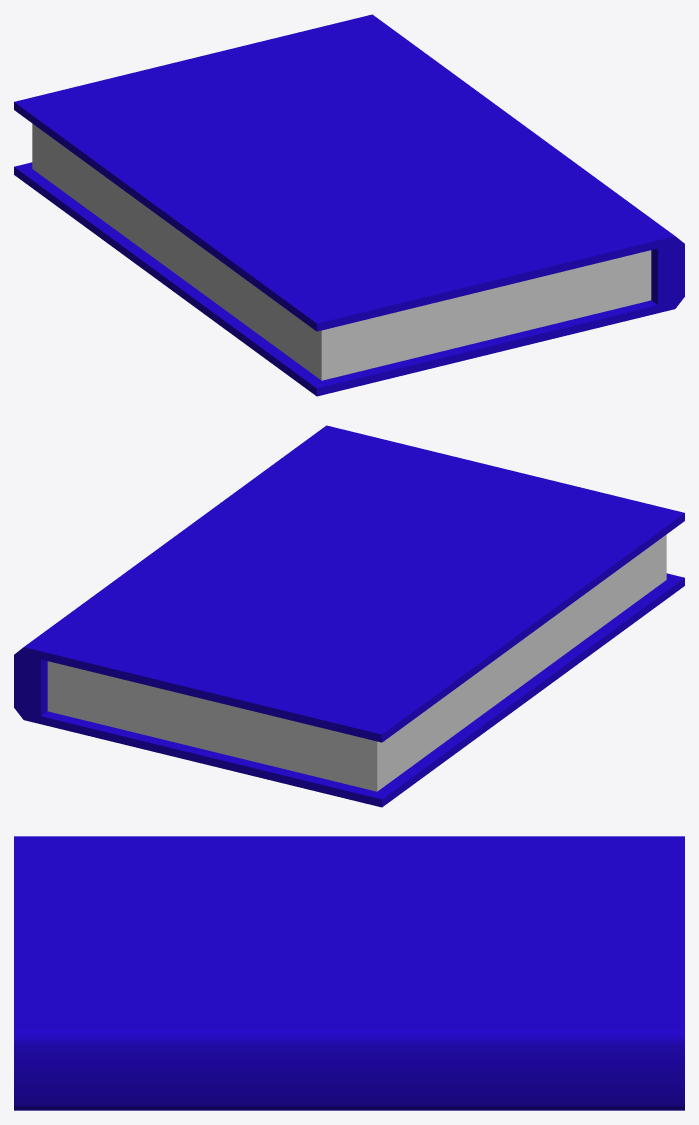
File: Book_Bashe.fbx
3 renders of one model, top to bottom at view 1: azimuth 30°, elevation 25°; view 2: azimuth 150°, elevation 25°; view 3: azimuth 270°, elevation 25°, orthographic. The views are drawn at different scales.
Visible parts, largest first — view 1: Book_Bashe; view 2: Book_Bashe; view 3: Book_Bashe.
Part boxes in pixels (box(x1,y1,x2,y2)): Book_Bashe: box(14, 14, 684, 396); Book_Bashe: box(14, 425, 684, 807); Book_Bashe: box(14, 836, 684, 1110).
Size of the model in its own units: 19.09 by 3.61 by 27.21.
